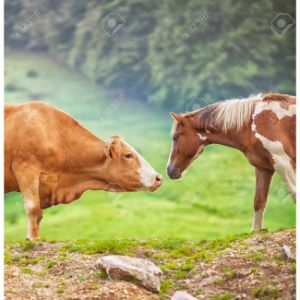cow: (4, 100, 164, 244)
horse: (166, 91, 295, 234)
